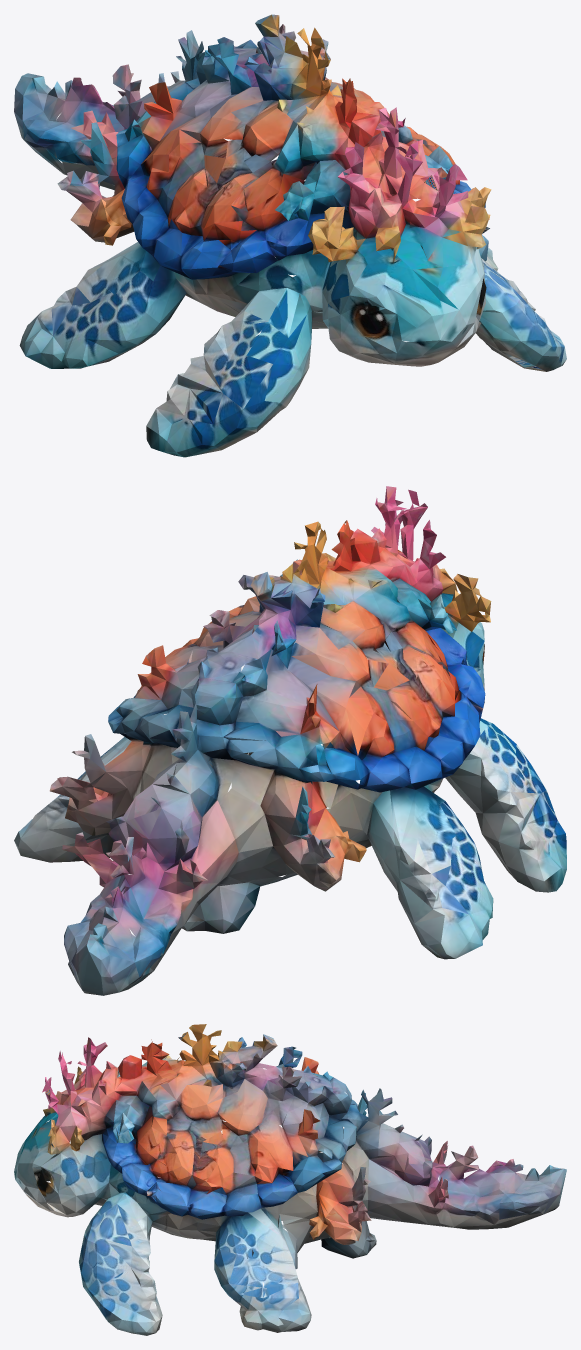
The model's file is coralith_lo.glb.
3 views of the same model, one above another, from view 1: azimuth 30°, elevation 25°; view 2: azimuth 150°, elevation 25°; view 3: azimuth 270°, elevation 25° (orthographic). The views are drawn at different scales.
Visible parts, largest first — view 1: plush; view 2: plush; view 3: plush.
Part boxes in pixels (x1,y1,x2,y2): plush: [14, 14, 566, 457]; plush: [14, 486, 566, 995]; plush: [14, 1024, 566, 1335].
Bounding box in the file's own units: 0.664 × 0.4765 × 0.9776.
Materials: 1 (1 with a texture image).
